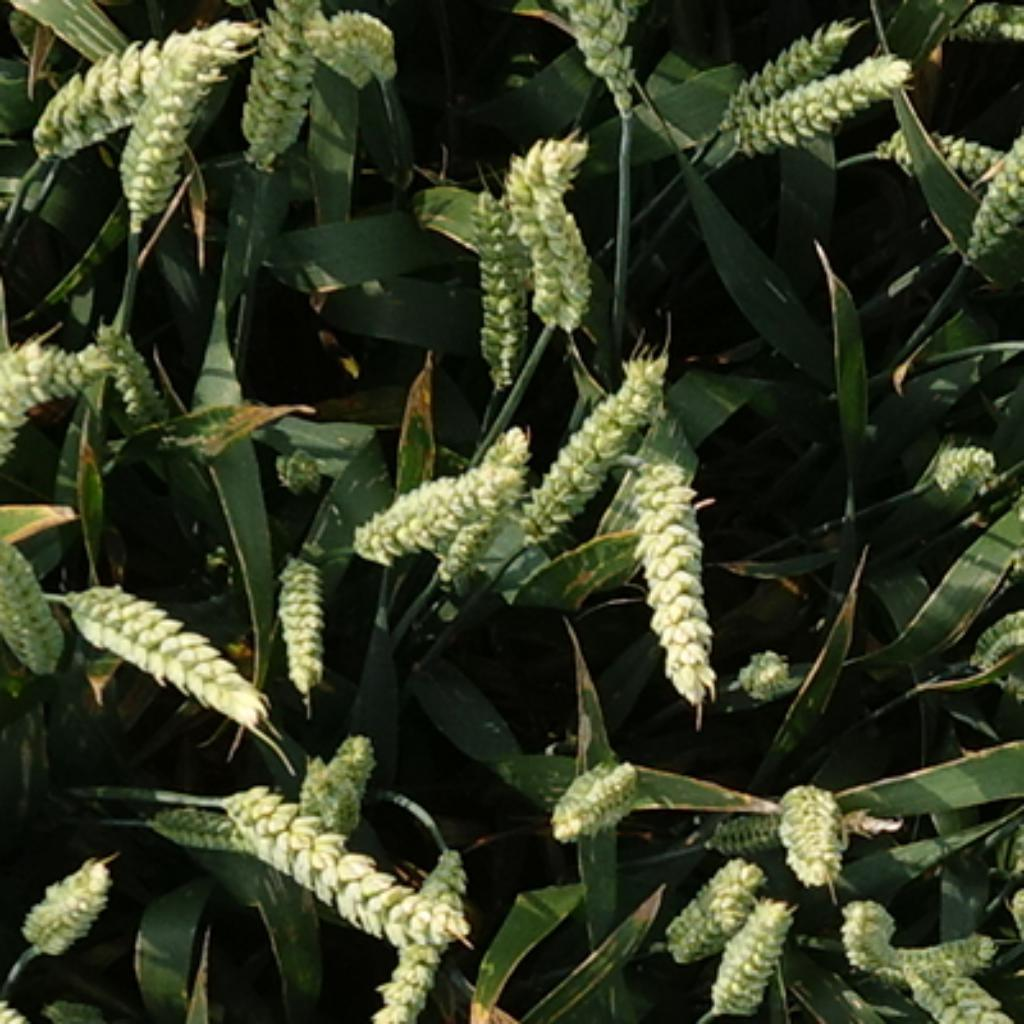0-0: (194, 775, 465, 980), (28, 23, 253, 181), (58, 558, 266, 719), (522, 345, 678, 545), (117, 20, 258, 227), (476, 125, 606, 343), (614, 442, 721, 701), (360, 844, 478, 1024), (353, 460, 529, 576), (727, 51, 908, 161), (424, 424, 529, 599), (460, 168, 540, 391), (714, 20, 860, 140), (238, 2, 327, 163), (2, 322, 97, 455), (655, 847, 765, 960), (537, 2, 657, 102), (706, 888, 796, 1011), (94, 309, 184, 432), (15, 847, 117, 949), (955, 130, 1023, 278), (542, 752, 647, 847), (302, 721, 391, 826), (268, 545, 335, 683), (2, 529, 66, 668), (770, 773, 849, 880), (878, 122, 1024, 174), (140, 793, 248, 849), (837, 885, 906, 967), (890, 931, 1011, 977), (322, 7, 393, 84), (919, 430, 995, 491), (962, 591, 1024, 660), (729, 634, 798, 696), (701, 803, 785, 849), (946, 6, 1024, 47), (271, 437, 327, 488), (522, 1021, 716, 1024)
